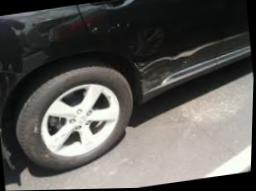Door: (84, 4, 212, 102)
